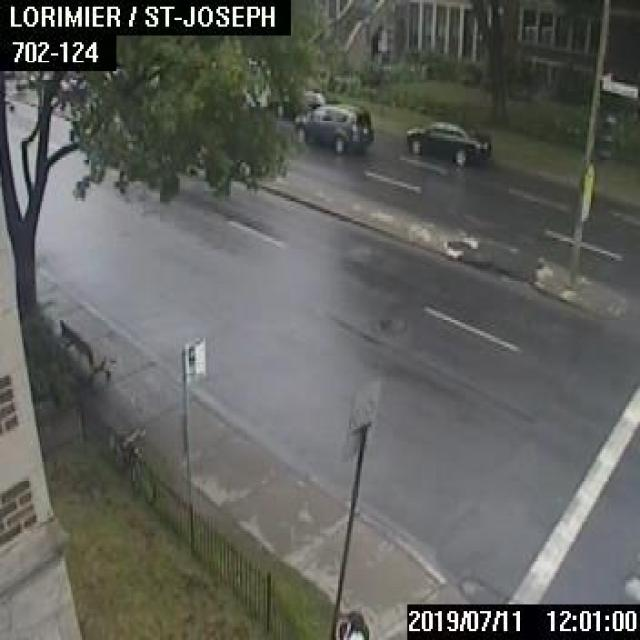vehicle: (291, 100, 371, 156), (404, 119, 489, 163), (302, 88, 341, 109)
